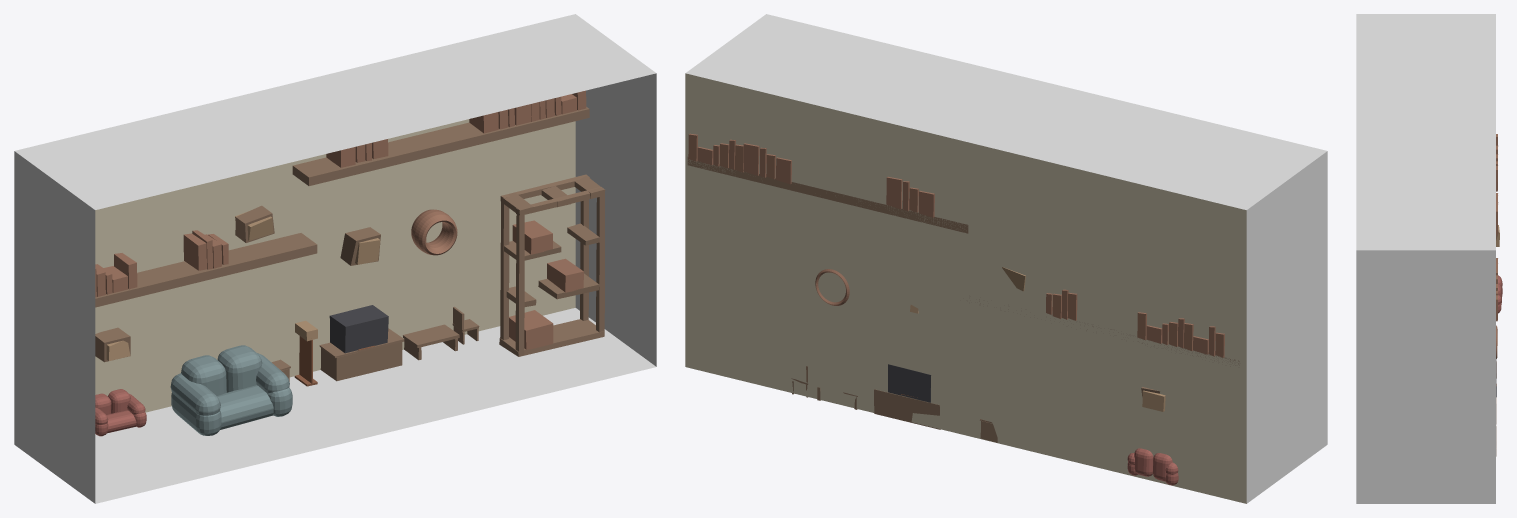
Rendered from sala.fbx.
The picture shows the model from 3 angles, left to right: view 1: azimuth 30°, elevation 25°; view 2: azimuth 150°, elevation 25°; view 3: azimuth 270°, elevation 25°; orthographic projection. The views are drawn at different scales.
Visible parts, largest first — view 1: Pared, Techo, Piso, Paredizq, Paredderec, Librero.002, Sillon.002, Repisa2, Repisa1, Basetele, SALA_tv, Sillon.001 (+7 smaller); view 2: Pared, Techo, Paredizq, Repisa2, Basetele, Sillon.001, SALA_tv; view 3: Paredderec, Techo.
Boxes of the visible parts, x1,y1,x2,y2 form: Pared: (95, 119, 575, 412); Techo: (15, 14, 655, 209); Piso: (95, 308, 655, 503); Paredizq: (14, 151, 95, 503); Paredderec: (575, 73, 656, 366); Librero.002: (499, 174, 605, 356); Sillon.002: (170, 345, 292, 435); Repisa2: (292, 107, 589, 185); Repisa1: (95, 233, 317, 307); Basetele: (319, 328, 404, 381); SALA_tv: (329, 305, 388, 353); Sillon.001: (95, 389, 146, 436); Pared: (685, 73, 1246, 503); Techo: (686, 14, 1326, 209); Paredizq: (1246, 151, 1327, 503); Repisa2: (687, 157, 968, 233); Basetele: (874, 389, 940, 429); Sillon.001: (1127, 448, 1178, 485); SALA_tv: (888, 364, 931, 402); Paredderec: (1356, 250, 1495, 503); Techo: (1356, 14, 1495, 250).
Bounding box in the file's own units: 2000 × 1011 × 524.
